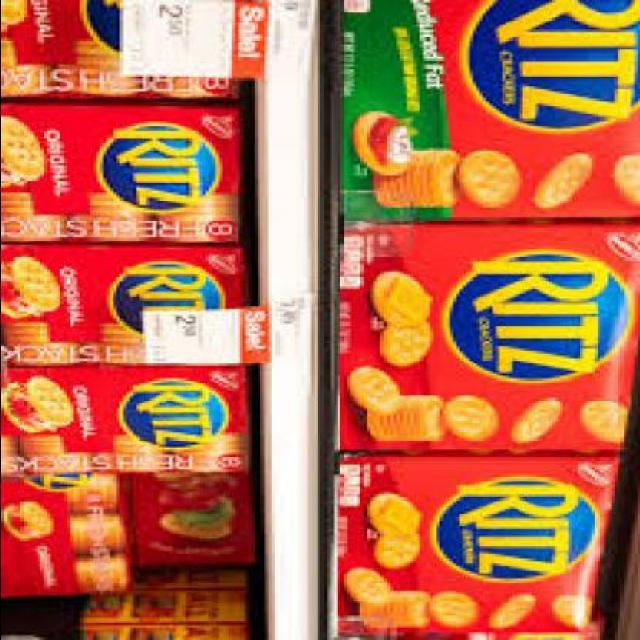Ritz cracker: (300, 222, 637, 455), (326, 2, 637, 226), (294, 457, 637, 636), (3, 104, 251, 247), (3, 242, 245, 371), (3, 361, 254, 479)
